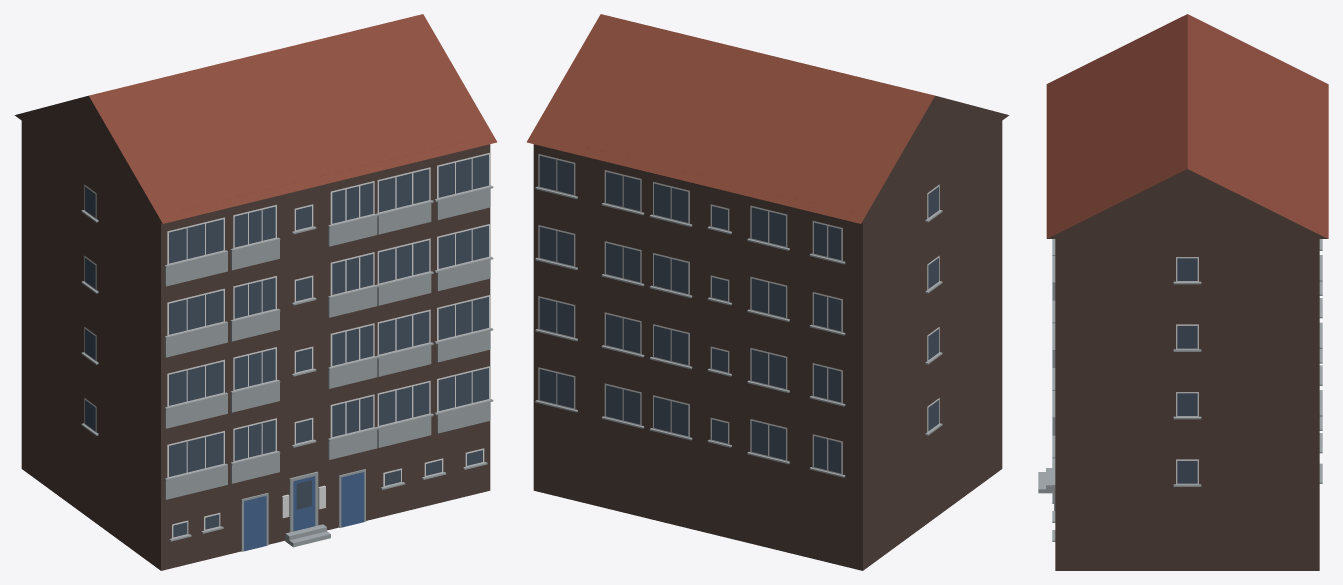
Rendered from nw-portiek-brick-pitched__clad-panel__5__gable__long__solid.glb.
3 views of the same model, side by side, from view 1: azimuth 30°, elevation 25°; view 2: azimuth 150°, elevation 25°; view 3: azimuth 270°, elevation 25° (orthographic). The views are drawn at different scales.
Parts seen in each view (by area): view 1: nw-portiek-brick-pitched__clad-panel__5__gable__long__solid; view 2: nw-portiek-brick-pitched__clad-panel__5__gable__long__solid; view 3: nw-portiek-brick-pitched__clad-panel__5__gable__long__solid.
Part boxes in pixels (x1=…): nw-portiek-brick-pitched__clad-panel__5__gable__long__solid: x1=14, y1=14, x2=496, y2=570; nw-portiek-brick-pitched__clad-panel__5__gable__long__solid: x1=527, y1=14, x2=1009, y2=570; nw-portiek-brick-pitched__clad-panel__5__gable__long__solid: x1=1038, y1=14, x2=1328, y2=570.
Size of the model in its own units: 14.64 by 17.77 by 11.58.
